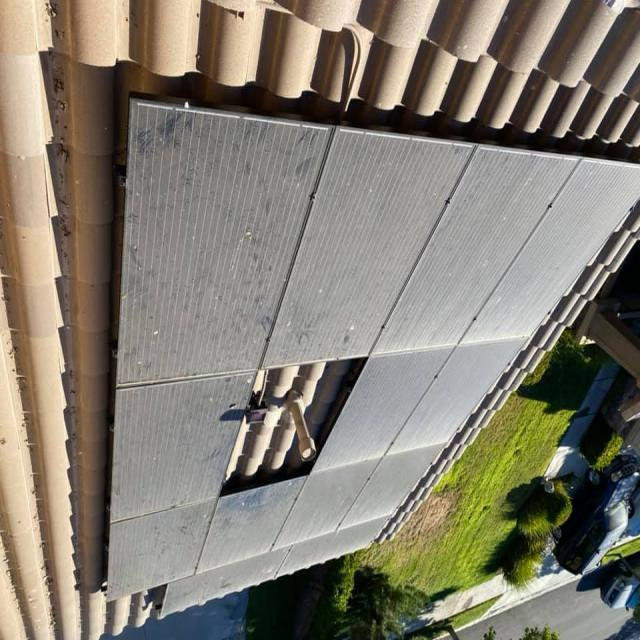dust-solar-panel: (105, 103, 640, 625)
